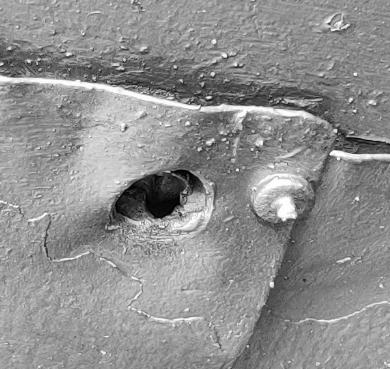missing-head: (1, 1, 390, 369)
